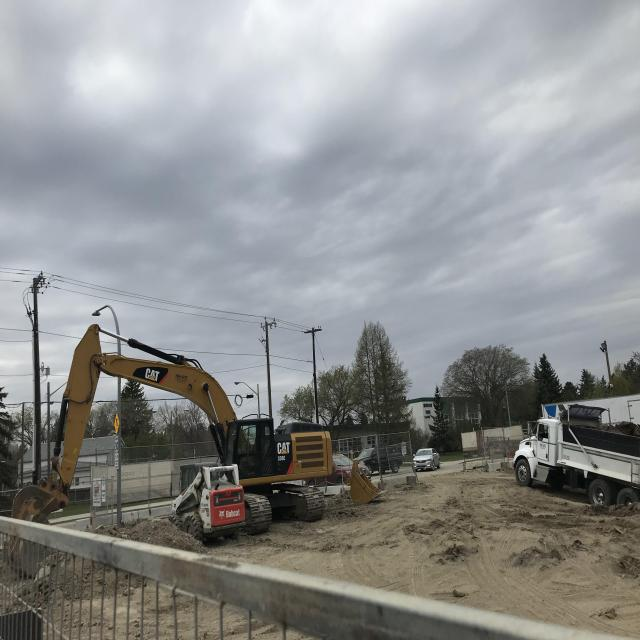Dump Truck: (512, 396, 640, 513)
Excavator: (12, 319, 340, 556)
Loader: (169, 462, 244, 542)
